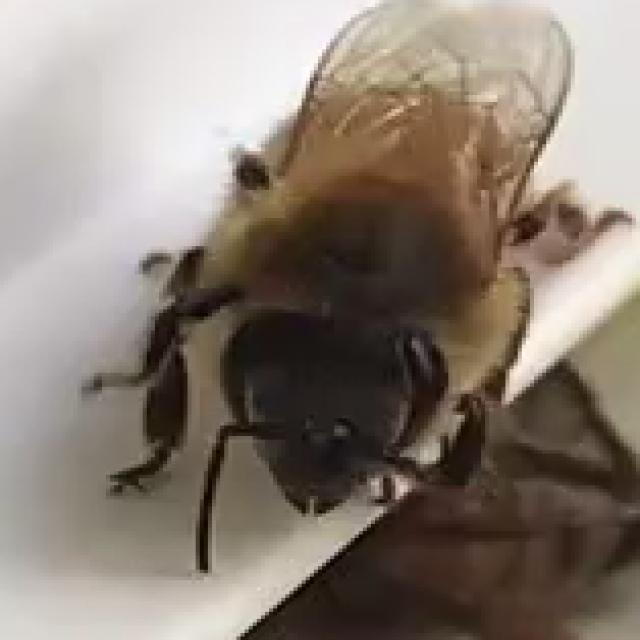honeybee: (107, 15, 629, 537)
